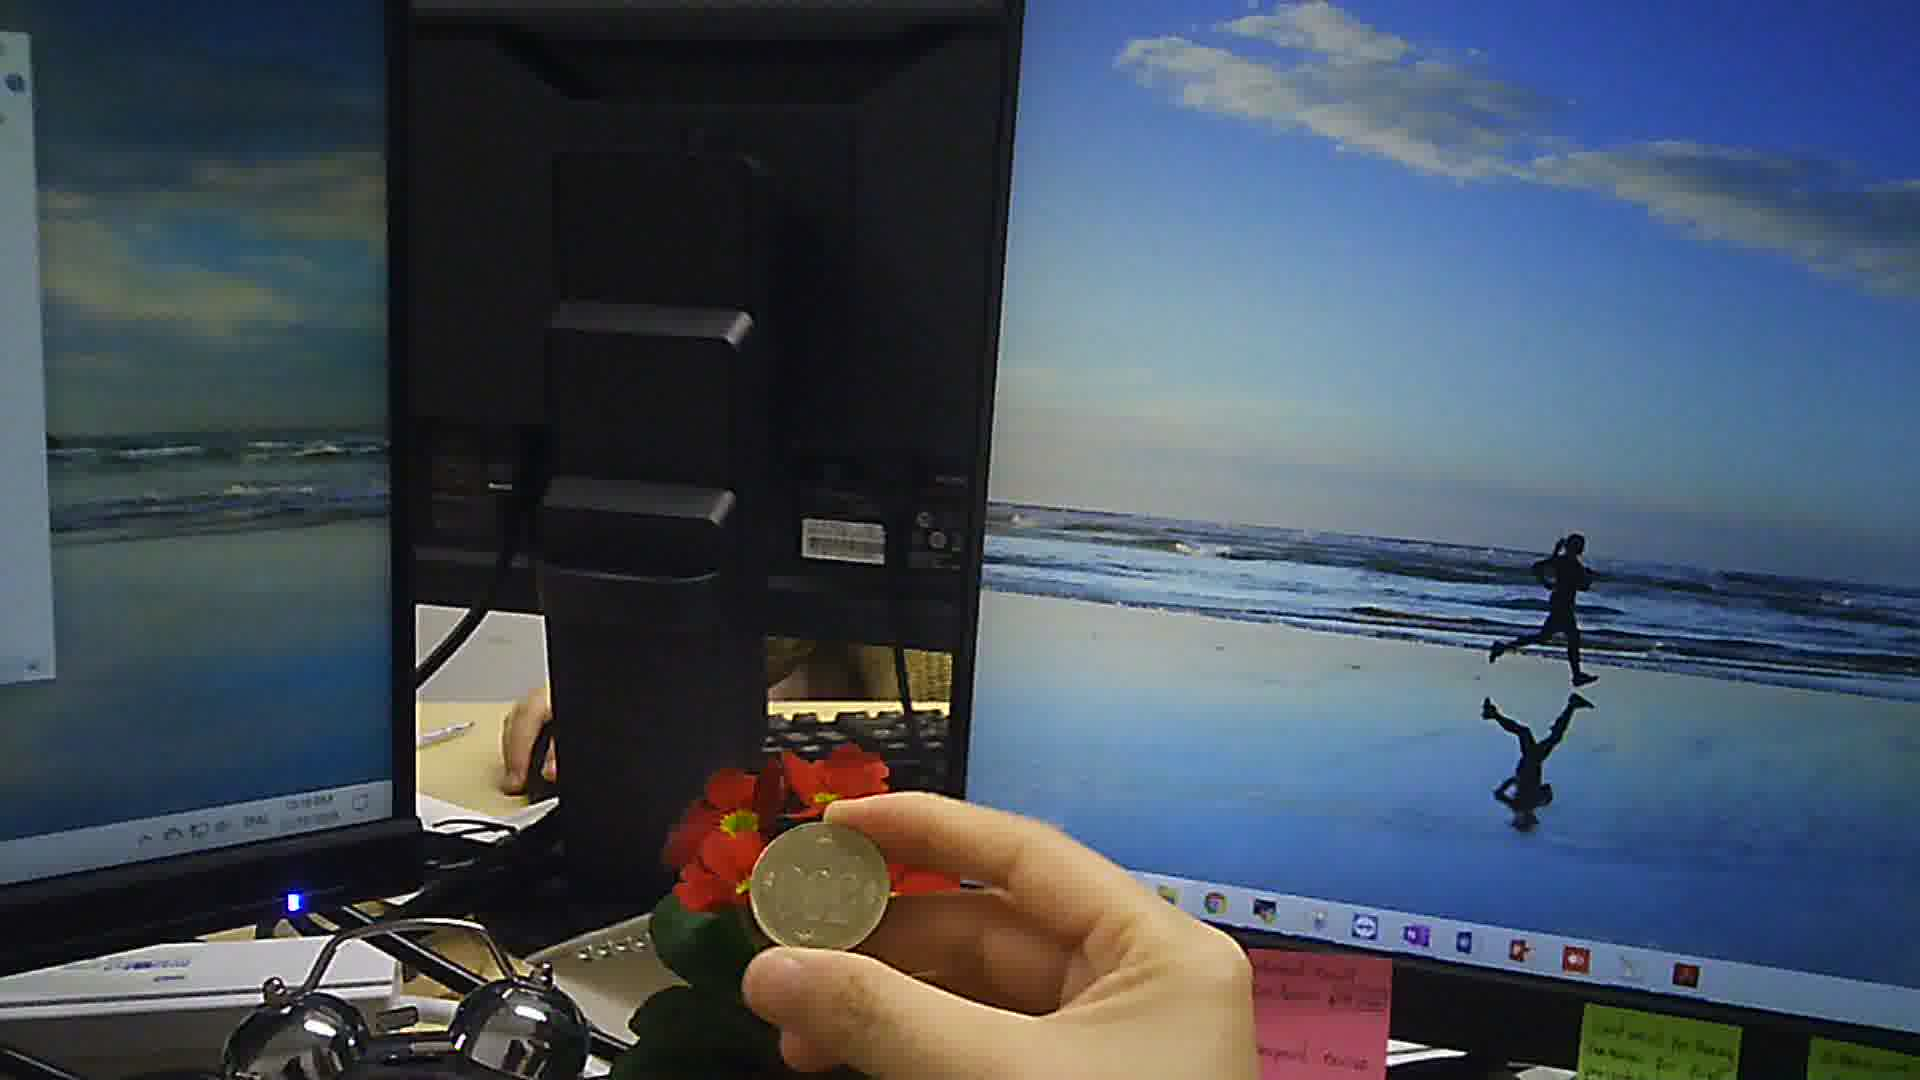500 Yen: (753, 802, 885, 934)
